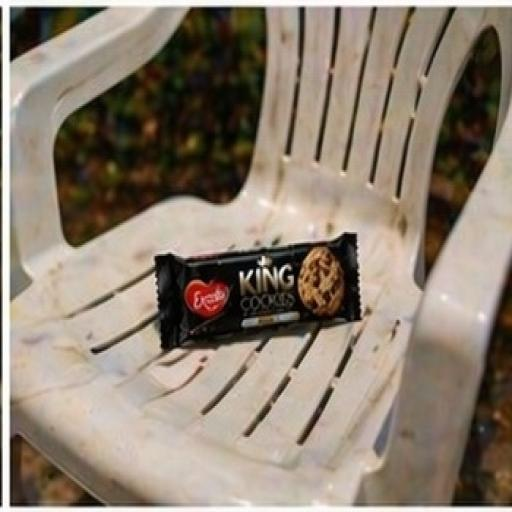king-cooking: (128, 218, 428, 386)
